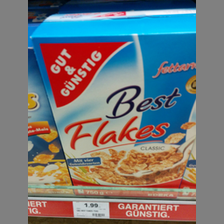cereal: (31, 12, 195, 196)
